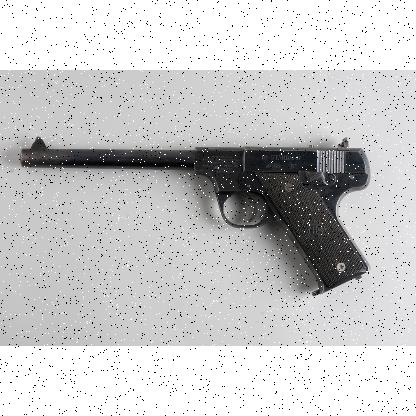gun: (18, 134, 370, 293)
